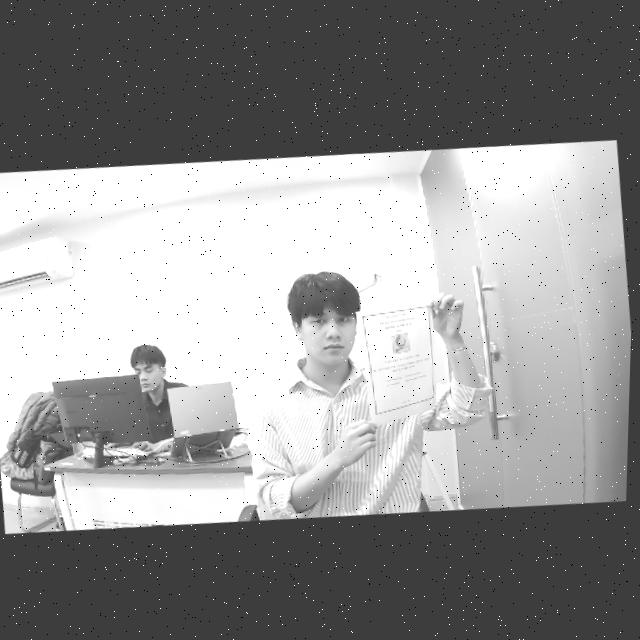document: (355, 300, 436, 427)
face: (298, 305, 353, 366), (134, 360, 167, 397)
